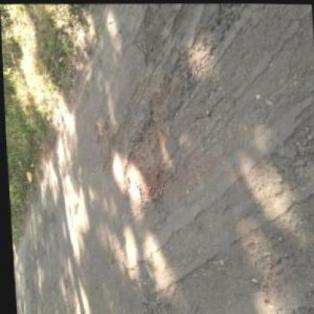Hueco: (119, 110, 174, 202), (132, 2, 170, 64)
